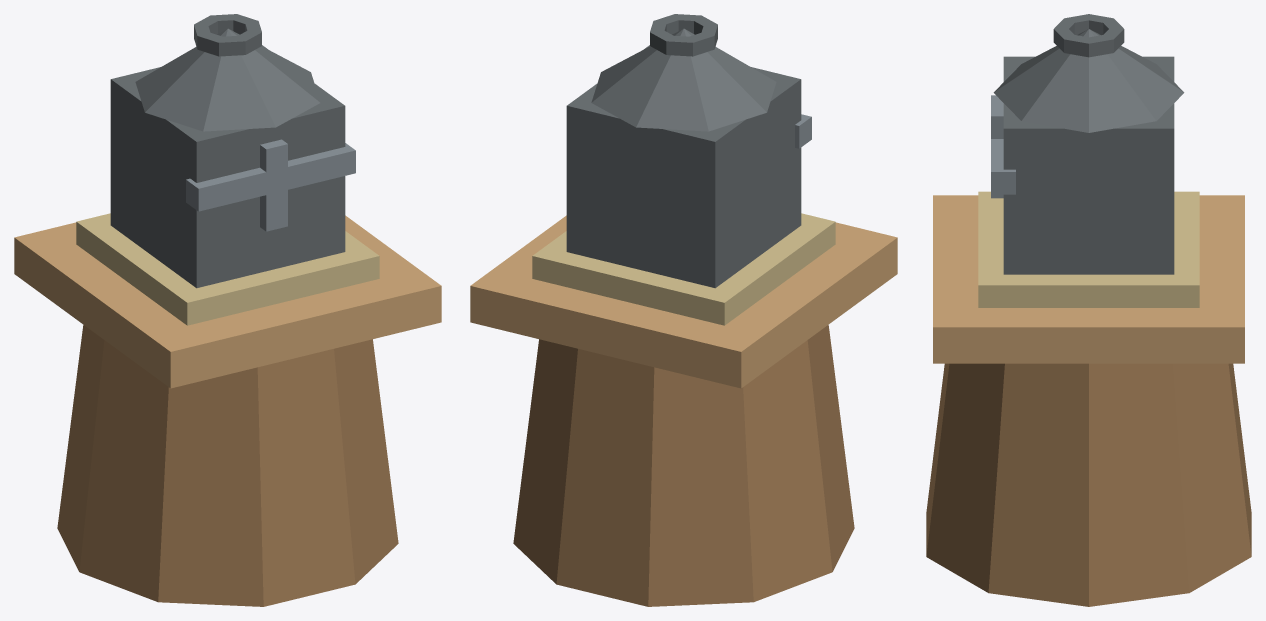
The model's file is helm-on-block.glb.
The picture shows the model from 3 angles, left to right: view 1: azimuth 30°, elevation 25°; view 2: azimuth 150°, elevation 25°; view 3: azimuth 270°, elevation 25°; orthographic projection.
Visible parts, largest first — view 1: helm-on-block; view 2: helm-on-block; view 3: helm-on-block.
Part boxes in pixels (left/top/right/bottom): helm-on-block: left=14, top=14, right=441, bottom=606; helm-on-block: left=470, top=14, right=897, bottom=606; helm-on-block: left=926, top=14, right=1251, bottom=606.
Bounding box in the file's own units: 0.68 × 1.11 × 0.6467.
